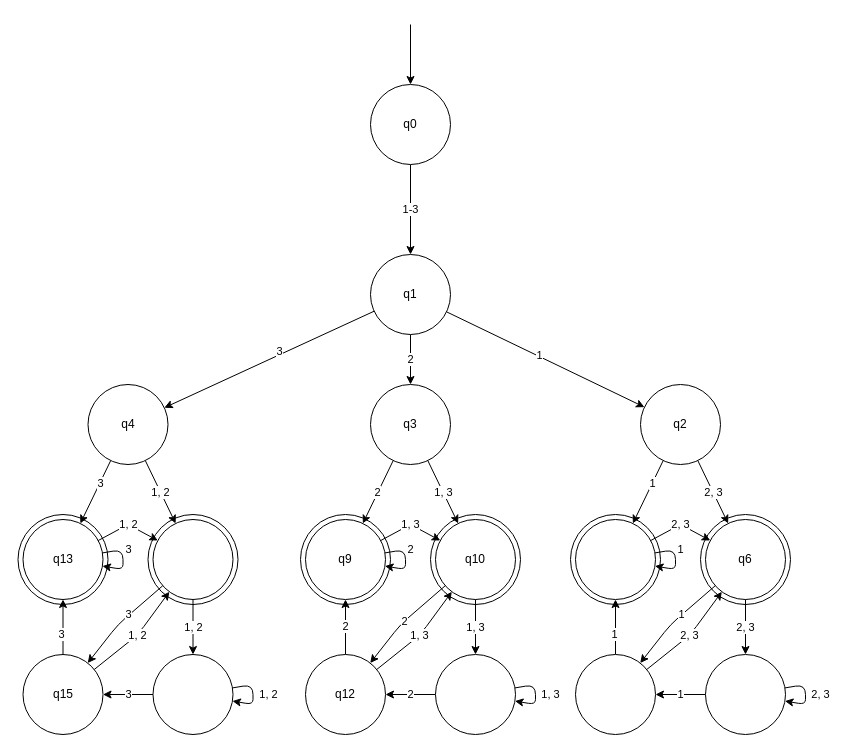
Image size: 846x752. Some labels were removed from this diagram. Here are the shapes that lost their labels. From the top down, the centre of each, then its label:
At (x=192, y=559): "q14".
At (x=615, y=559): "q5".
At (x=192, y=694): "q16".
At (x=475, y=694): "q11".
At (x=615, y=694): "q8".
At (x=745, y=694): "q7".
